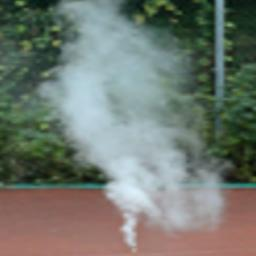smoke: (38, 0, 231, 252)
